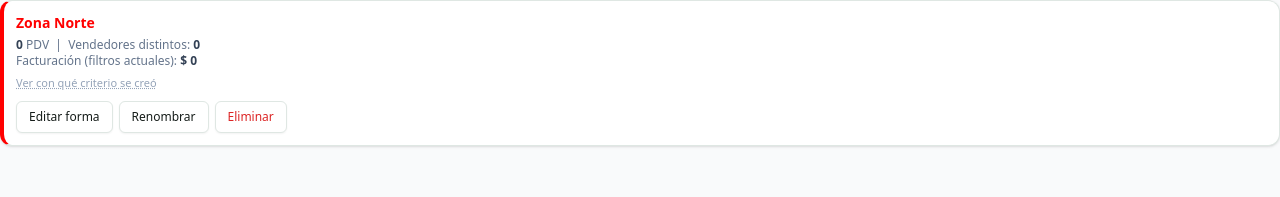
ZoneItem › sin criterios (zona vieja), no muestra el botón de aplicar filtros
Click the button "Ver con qué criterio se creó" at (86, 83), box [16, 75, 157, 92]
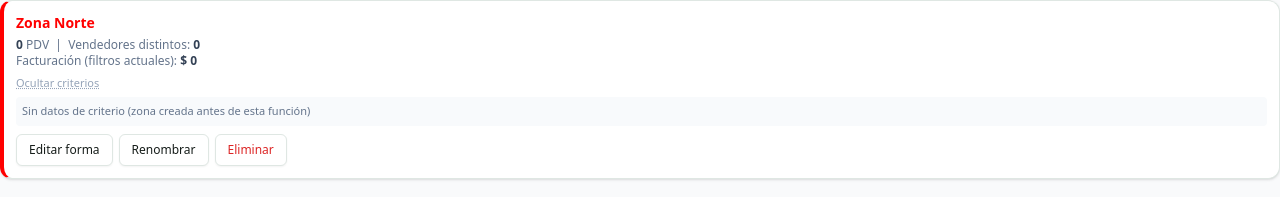
Expected: the text "Sin datos de criterio (zona creada antes de esta función)" is shown, [22, 103, 310, 118]
